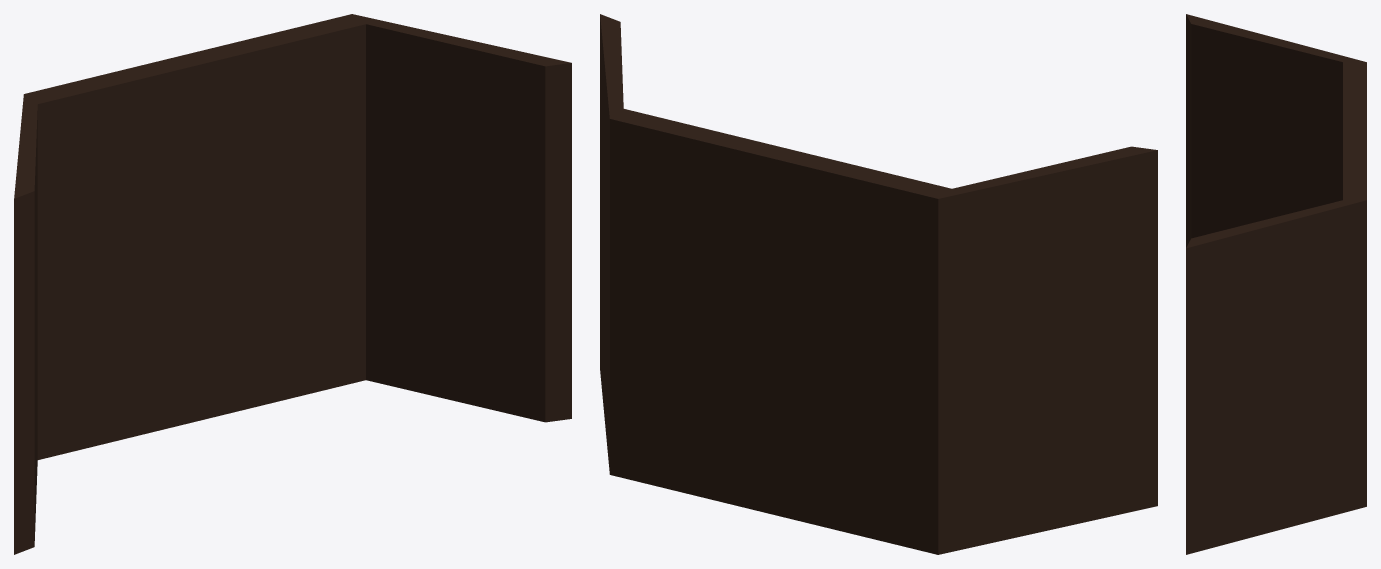
The model's file is gm_screen_blank.glb.
The picture shows the model from 3 angles, left to right: view 1: azimuth 30°, elevation 25°; view 2: azimuth 150°, elevation 25°; view 3: azimuth 270°, elevation 25°; orthographic projection. The views are drawn at different scales.
Parts seen in each view (by area): view 1: gm_screen_center; view 2: gm_screen_center; view 3: gm_screen_center.
Boxes of the visible parts, x1,y1,x2,y2 form: gm_screen_center: (14, 14, 571, 554); gm_screen_center: (600, 14, 1157, 554); gm_screen_center: (1186, 14, 1366, 554).
Bounding box in the file's own units: 2.79 × 1.7 × 0.9086.
